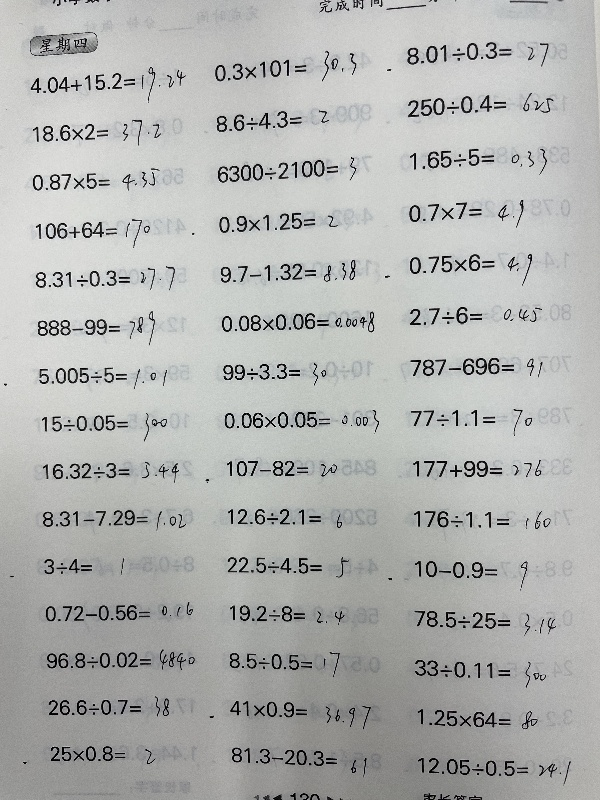equation: (26, 62, 189, 107), (225, 696, 373, 737), (410, 656, 549, 694), (405, 249, 536, 289), (210, 50, 359, 85), (226, 743, 370, 779), (33, 307, 159, 348), (220, 405, 383, 435), (412, 754, 573, 784), (31, 262, 179, 294), (409, 405, 539, 441), (31, 214, 154, 252), (217, 307, 378, 336), (401, 38, 552, 68), (408, 607, 558, 637), (28, 115, 164, 148), (212, 154, 359, 184), (42, 645, 199, 673), (36, 410, 171, 442), (410, 556, 530, 591), (215, 258, 359, 287), (405, 145, 552, 173), (40, 598, 196, 624), (37, 455, 181, 483), (410, 506, 551, 534), (37, 504, 188, 530), (403, 91, 554, 117), (405, 302, 545, 330), (222, 552, 352, 582), (34, 362, 170, 390), (224, 504, 346, 535), (405, 352, 545, 379), (225, 648, 343, 680), (27, 166, 161, 194), (403, 198, 527, 227), (45, 740, 158, 771), (43, 691, 172, 718), (413, 705, 540, 732), (409, 455, 545, 480), (218, 359, 330, 388), (213, 208, 340, 233), (211, 107, 335, 132), (225, 600, 347, 625), (223, 456, 341, 480), (42, 551, 133, 578)
